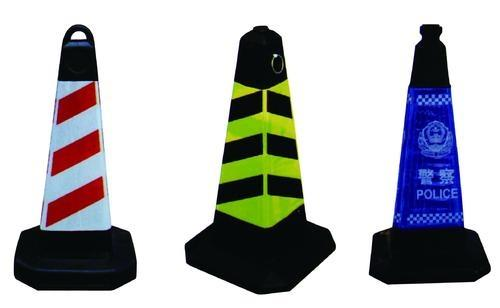cone_barrel: (185, 29, 324, 274), (11, 27, 132, 285), (369, 23, 487, 286)
